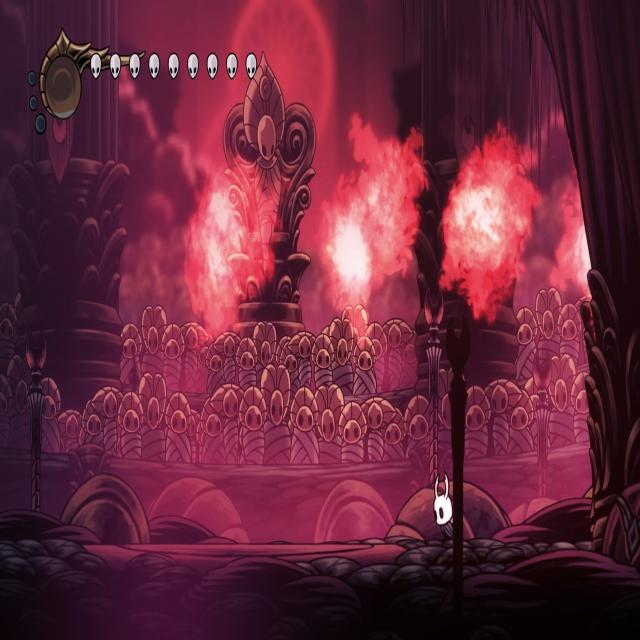Fireball: (184, 170, 254, 316), (444, 174, 515, 288), (325, 208, 375, 304), (564, 213, 593, 300)
Player: (432, 464, 458, 544)
